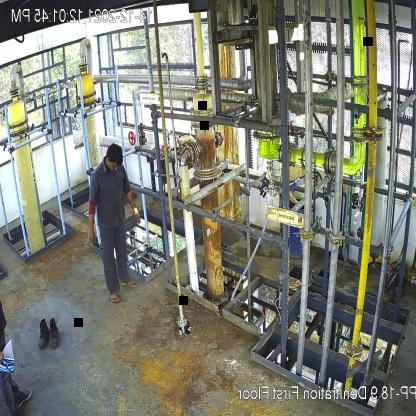no_shoes: (108, 291, 122, 306), (121, 278, 138, 288)
shoes: (46, 316, 60, 350), (37, 319, 49, 348)
